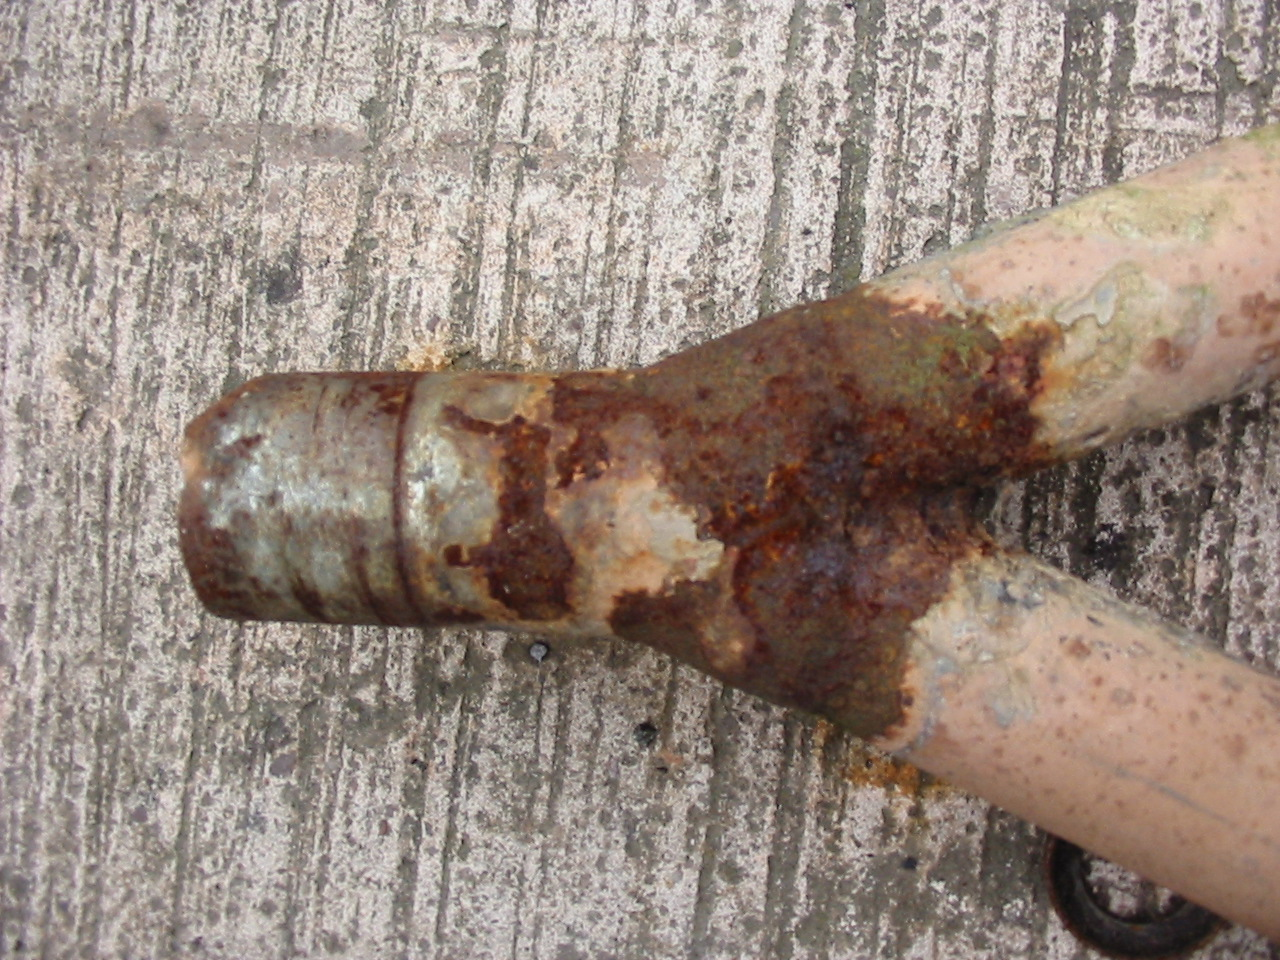Severe: (182, 272, 1062, 760)
